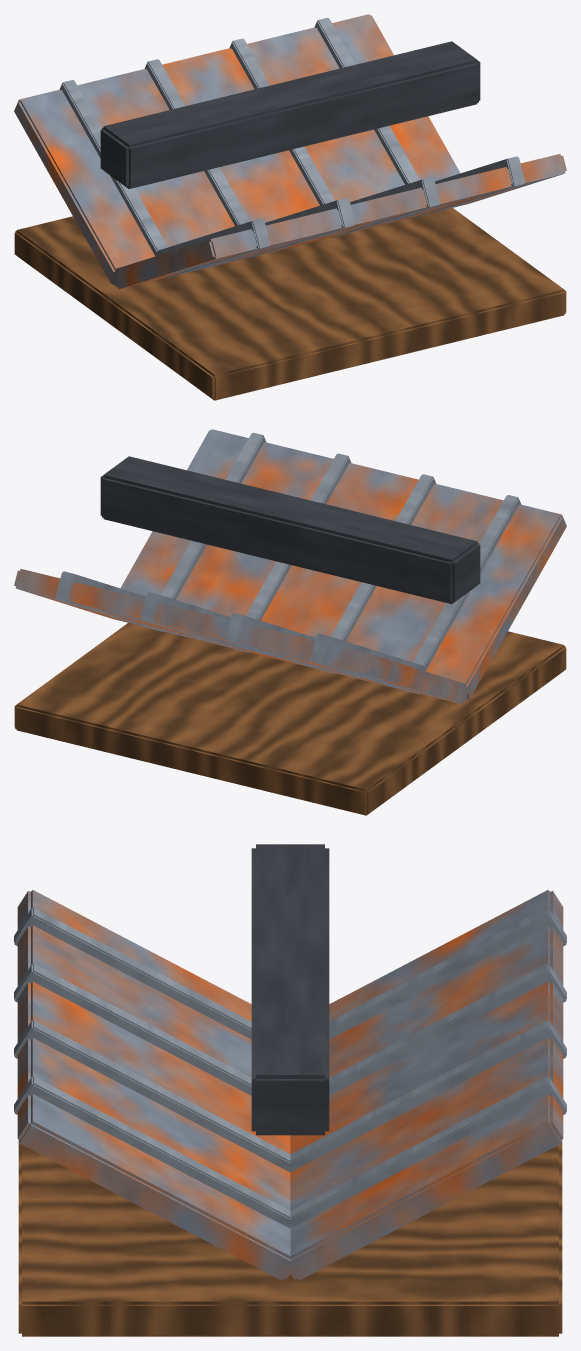
The model's file is roof_sloped_tin.glb.
3 renders of one model, top to bottom at view 1: azimuth 30°, elevation 25°; view 2: azimuth 150°, elevation 25°; view 3: azimuth 270°, elevation 25°, orthographic. The views are drawn at different scales.
Visible parts, largest first — view 1: roof_sloped_tin; view 2: roof_sloped_tin; view 3: roof_sloped_tin.
Part boxes in pixels (x1,y1,x2,y2): roof_sloped_tin: [14, 14, 566, 400]; roof_sloped_tin: [14, 429, 566, 815]; roof_sloped_tin: [14, 844, 566, 1336].
Bounding box in the file's own units: 1 × 0.52 × 0.997.
4 materials, 4 textured.
